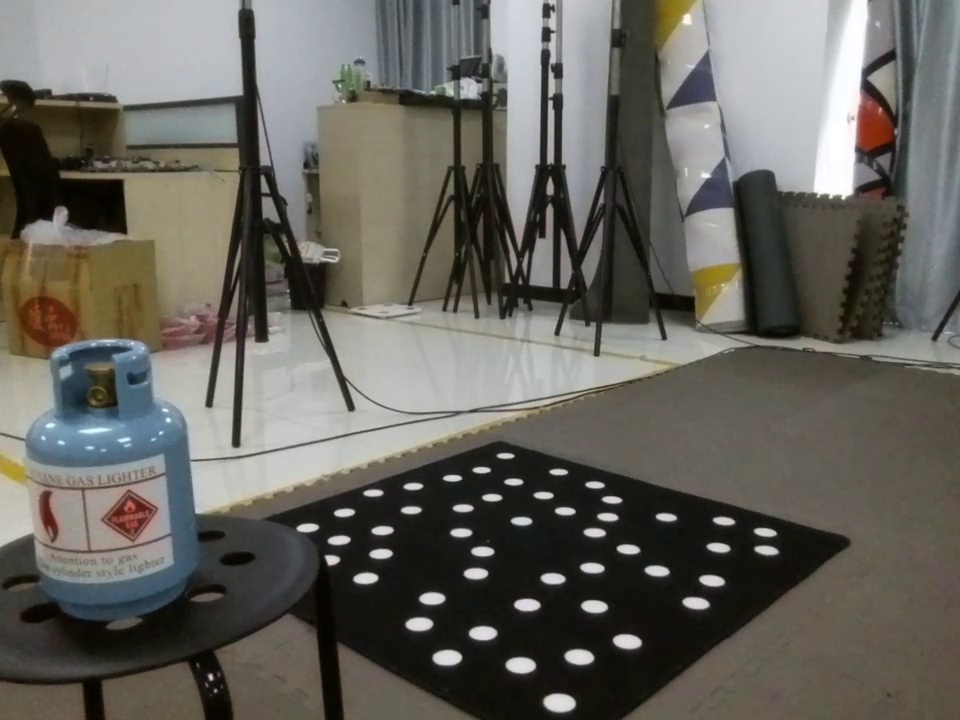gas tank: (12, 331, 241, 618)
